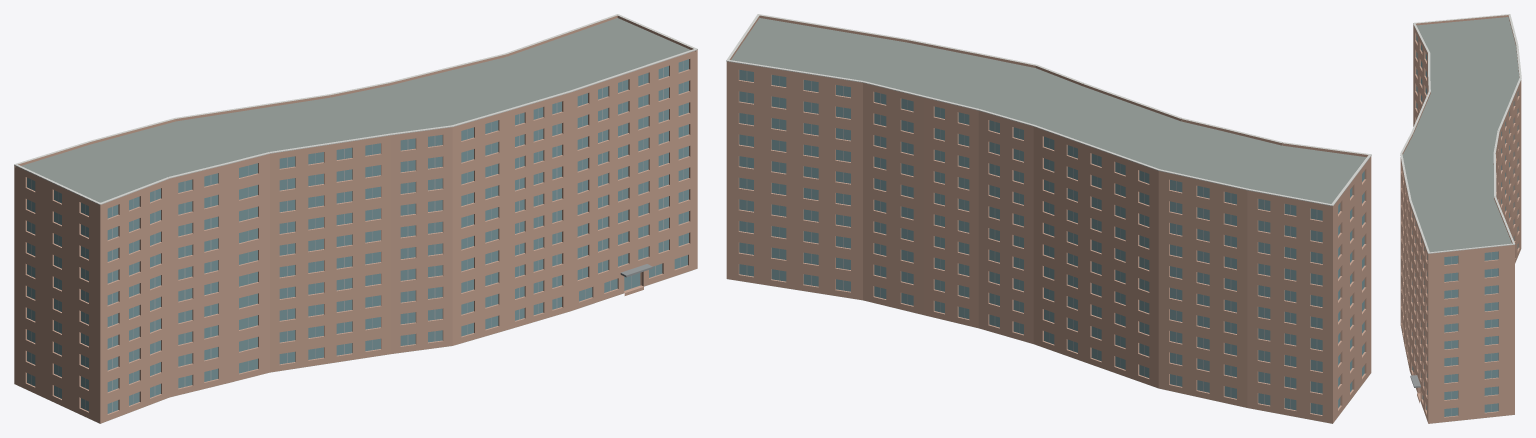
3 renders of one model, left to right at view 1: azimuth 30°, elevation 25°; view 2: azimuth 150°, elevation 25°; view 3: azimuth 270°, elevation 25°, orthographic. The views are drawn at different scales.
Parts seen in each view (by area): view 1: osm761589242__wall, osm761589242__glass, osm761589242__roof, osm761589242__parapet, osm761589242__trim, osm761589242__frame; view 2: osm761589242__wall, osm761589242__roof, osm761589242__glass, osm761589242__parapet, osm761589242__trim, osm761589242__frame; view 3: osm761589242__wall, osm761589242__roof, osm761589242__glass, osm761589242__trim, osm761589242__parapet, osm761589242__frame.
Boxes of the visible parts, <box> form: osm761589242__wall: <box>14,51,697,423</box>; osm761589242__glass: <box>27,59,688,413</box>; osm761589242__roof: <box>21,18,692,423</box>; osm761589242__parapet: <box>14,15,697,206</box>; osm761589242__trim: <box>14,14,697,204</box>; osm761589242__frame: <box>31,61,683,412</box>; osm761589242__wall: <box>726,63,1371,423</box>; osm761589242__roof: <box>727,18,1366,423</box>; osm761589242__glass: <box>739,69,1364,415</box>; osm761589242__parapet: <box>726,15,1371,207</box>; osm761589242__trim: <box>726,14,1371,206</box>; osm761589242__frame: <box>746,71,1338,413</box>; osm761589242__wall: <box>1400,25,1521,423</box>; osm761589242__roof: <box>1402,17,1519,423</box>; osm761589242__glass: <box>1412,35,1518,416</box>; osm761589242__trim: <box>1400,14,1521,253</box>; osm761589242__parapet: <box>1402,15,1520,254</box>; osm761589242__frame: <box>1417,37,1491,415</box>.
Size of the model in its own units: 94.32 by 31.75 by 20.25.
